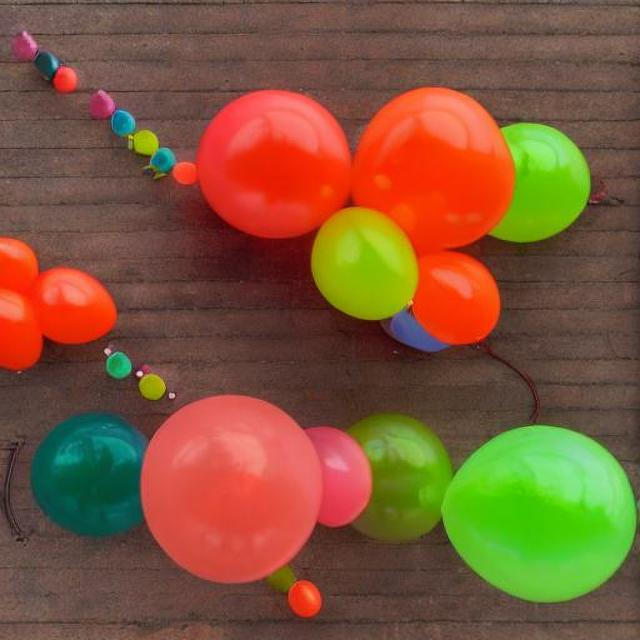balloon: (28, 17, 596, 354), (132, 390, 454, 588), (432, 421, 630, 607), (0, 232, 119, 371), (27, 410, 150, 538), (135, 366, 169, 402)
